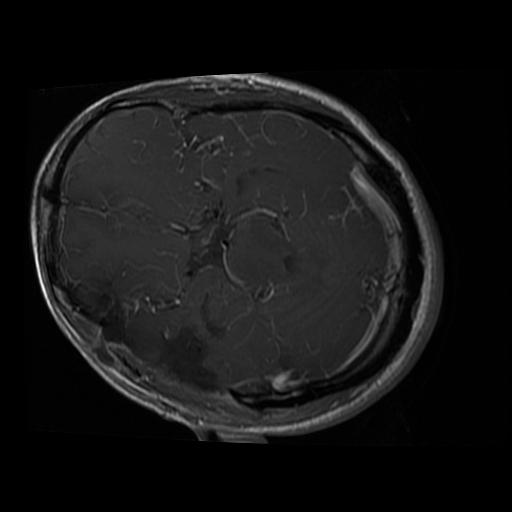glioma: (154, 324, 221, 391)
